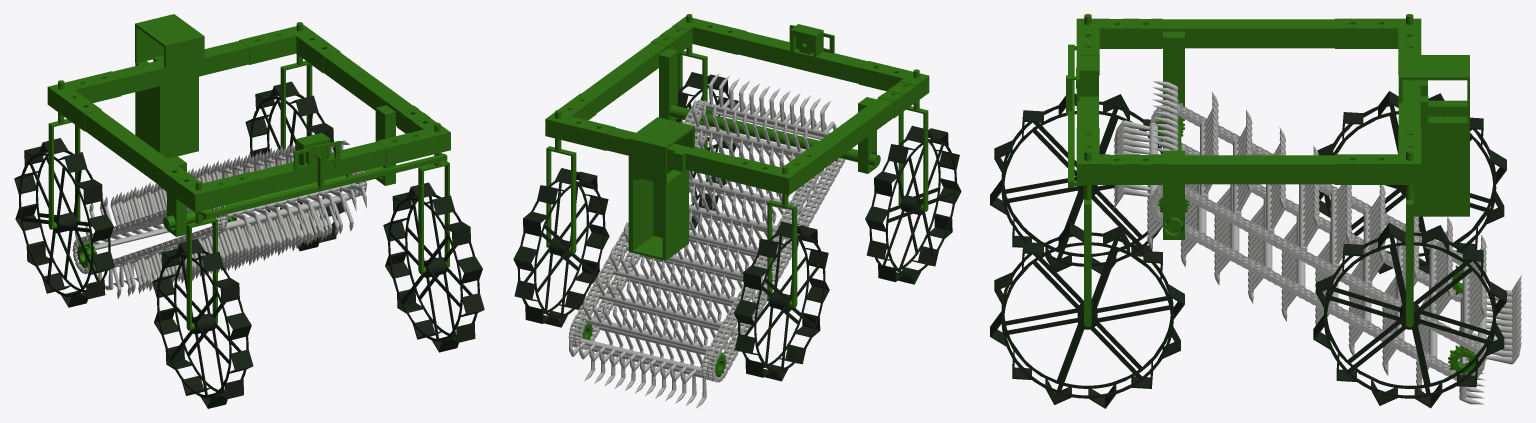
The model's file is harvester.glb.
3 views of the same model, side by side, from view 1: azimuth 30°, elevation 25°; view 2: azimuth 150°, elevation 25°; view 3: azimuth 270°, elevation 25° (orthographic). The views are drawn at different scales.
Parts seen in each view (by area): view 1: Harvestor.001; view 2: Harvestor.001; view 3: Harvestor.001.
Part boxes in pixels (x1,y1,x2,y2): Harvestor.001: (14, 14, 484, 408); Harvestor.001: (513, 14, 961, 408); Harvestor.001: (990, 14, 1521, 408).
Bounding box in the file's own units: 1.22 × 1.17 × 1.85.
Materials: 1 (1 with a texture image).
